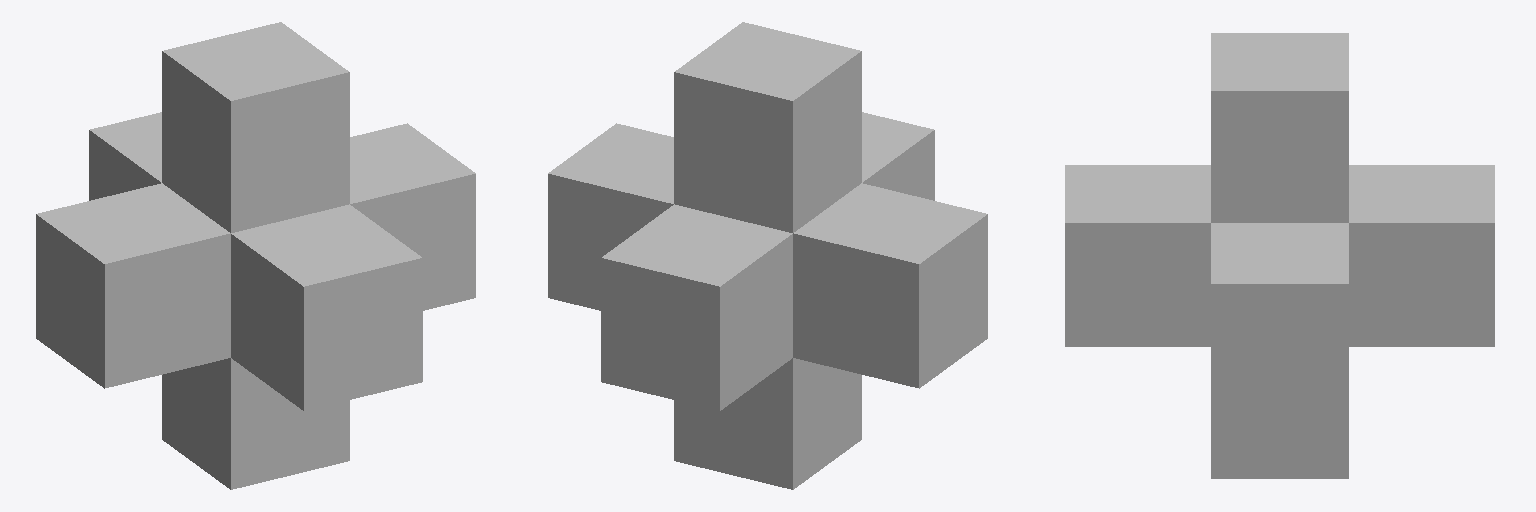
The model's file is blockb.obj.
The picture shows the model from 3 angles: view 1: azimuth 30°, elevation 25°; view 2: azimuth 150°, elevation 25°; view 3: azimuth 270°, elevation 25°; orthographic projection.
Visible parts, largest first — view 1: Mesh1 Model; view 2: Mesh1 Model; view 3: Mesh1 Model.
Boxes of the visible parts, box(x1,y1,x2,y2) form: Mesh1 Model: box(36, 22, 475, 489); Mesh1 Model: box(548, 22, 987, 489); Mesh1 Model: box(1065, 33, 1494, 478).
Size of the model in its own units: 50 by 50 by 50.